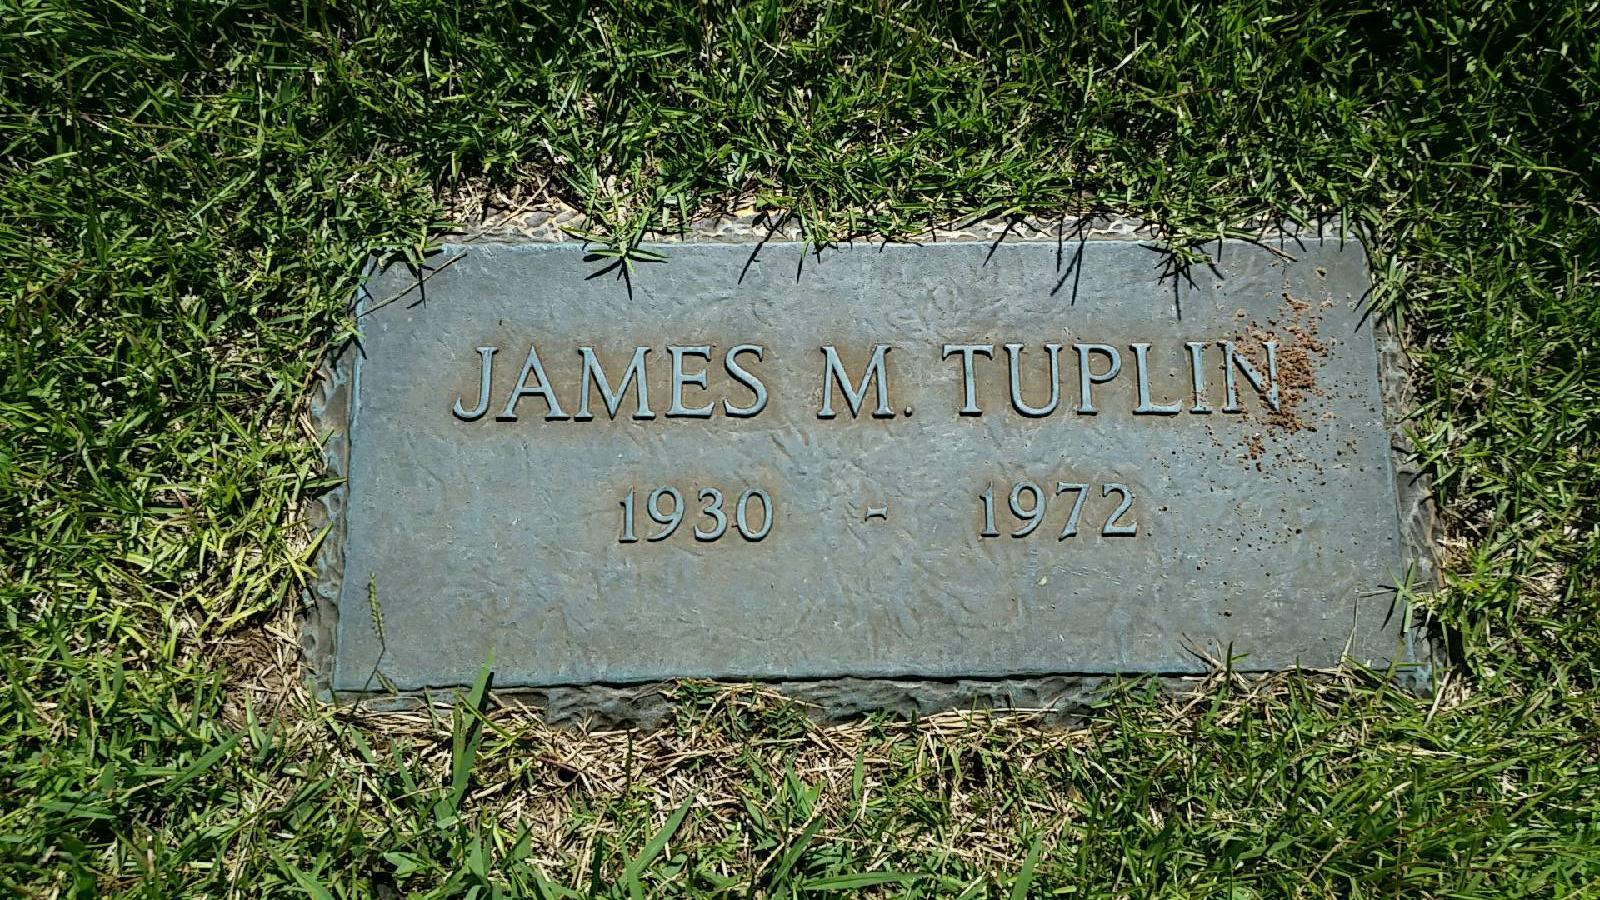flat: (292, 219, 1434, 722)
